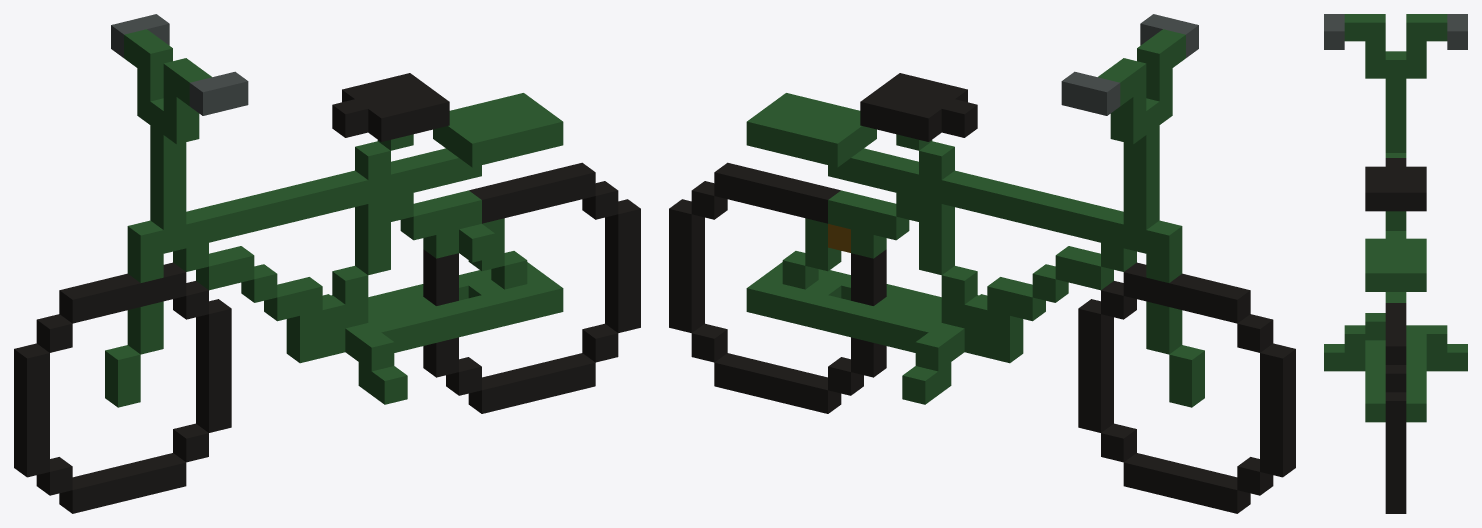
The model's file is drzewko-93.obj.
The picture shows the model from 3 angles, left to right: view 1: azimuth 30°, elevation 25°; view 2: azimuth 150°, elevation 25°; view 3: azimuth 270°, elevation 25°; orthographic projection. The views are drawn at different scales.
Bounding box in the file's own units: 2.7 × 1.8 × 0.7.
Materials: 1 (1 with a texture image).
